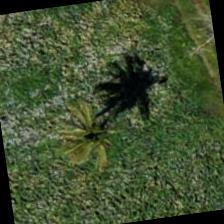Kelapa_Sawit: (44, 86, 146, 188)
